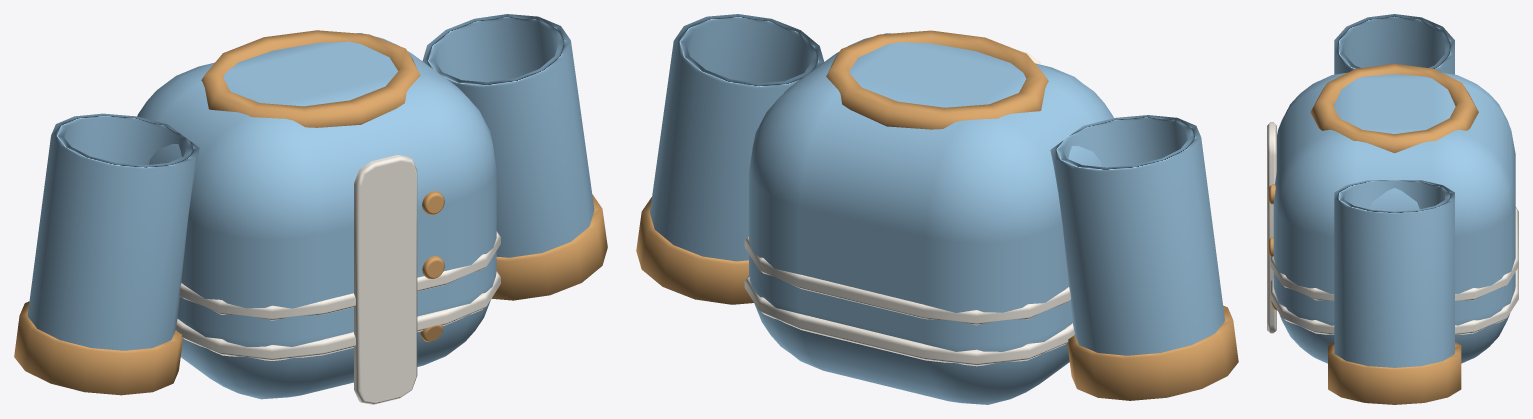
File: blue_hotel_cardigan.glb
3 renders of one model, left to right at view 1: azimuth 30°, elevation 25°; view 2: azimuth 150°, elevation 25°; view 3: azimuth 270°, elevation 25°, orthographic. The views are drawn at different scales.
Parts seen in each view (by area): view 1: blue_hotel_cardigan_Body, blue_hotel_cardigan_ArmL, blue_hotel_cardigan_ArmR; view 2: blue_hotel_cardigan_Body, blue_hotel_cardigan_ArmL, blue_hotel_cardigan_ArmR; view 3: blue_hotel_cardigan_Body, blue_hotel_cardigan_ArmR, blue_hotel_cardigan_ArmL.
Boxes of the visible parts, <box> form: blue_hotel_cardigan_Body: <box>137,30,500,404</box>; blue_hotel_cardigan_ArmL: <box>14,113,199,395</box>; blue_hotel_cardigan_ArmR: <box>422,14,607,300</box>; blue_hotel_cardigan_Body: <box>744,30,1113,404</box>; blue_hotel_cardigan_ArmL: <box>1050,115,1238,400</box>; blue_hotel_cardigan_ArmR: <box>636,14,824,304</box>; blue_hotel_cardigan_Body: <box>1267,63,1518,363</box>; blue_hotel_cardigan_ArmR: <box>1328,180,1461,404</box>; blue_hotel_cardigan_ArmL: <box>1334,14,1454,74</box>.
Bounding box in the file's own units: 0.6504 × 0.3119 × 0.302.
